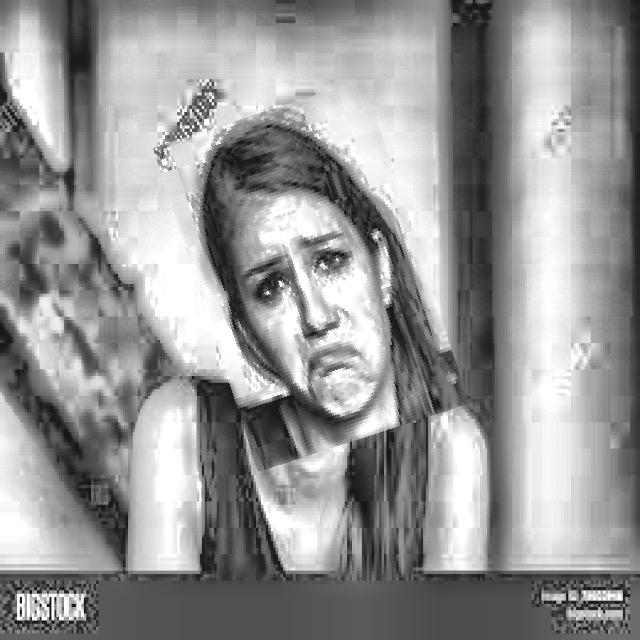sad: (177, 92, 446, 459)
